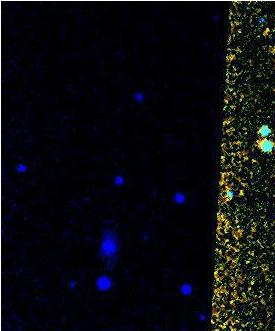star: (226, 174, 256, 204)
